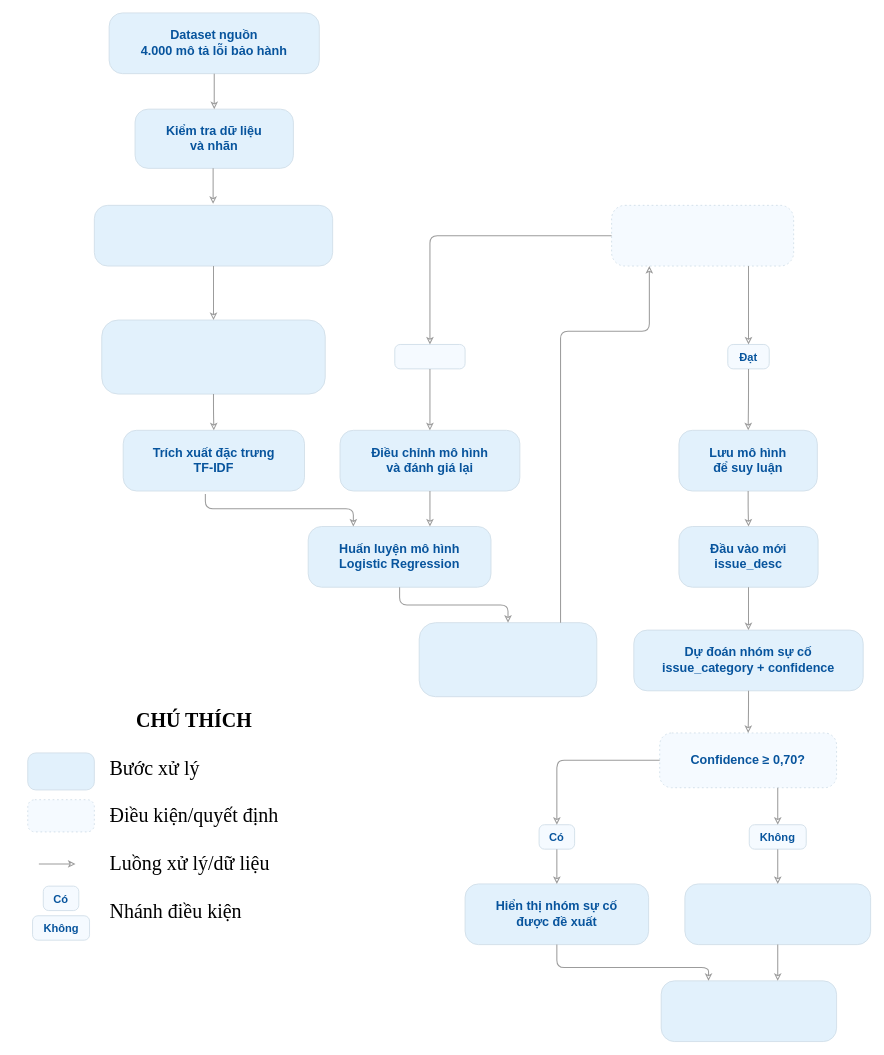
The diagram is 884 pixels wide and 1055 high, and some of its shapes have lost their labels. The box of each missing label's shape, as (x1, y1, x2, y2) in pixels:
Chia dữ liệu Train 70% · Validation 15% · Test 15%: (101, 319, 325, 394)
Chưa đạt: (394, 344, 465, 369)
Macro F1 trên tập test ≥ 0,70?: (611, 205, 794, 266)
Nhân viên kiểm tra và xác nhận: (660, 980, 837, 1042)
Tiền xử lý văn bản Xử lý thiếu dữ liệu, chuẩn hóa: (94, 205, 333, 266)
Yêu cầu nhân viên kiểm tra, chọn nhóm: (684, 883, 871, 945)
Đánh giá mô hình Macro F1, Accuracy, Confusion Matrix: (418, 622, 597, 697)
